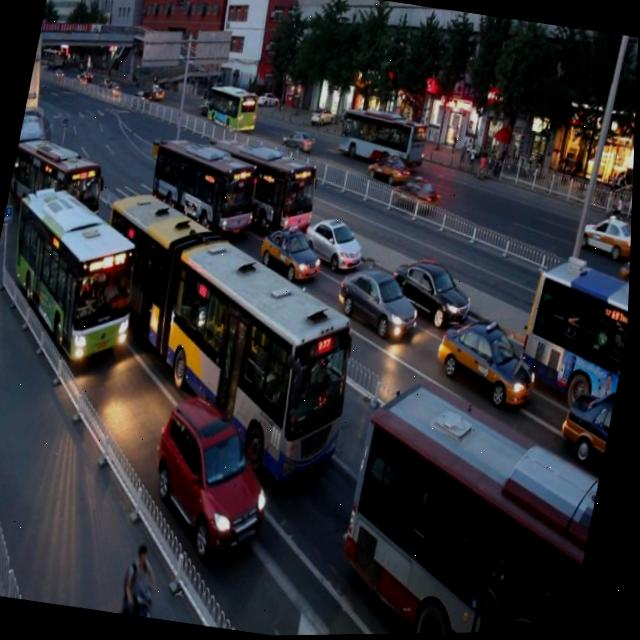car: (144, 391, 289, 562), (432, 307, 549, 414), (332, 254, 427, 343), (389, 247, 482, 328), (256, 214, 329, 284), (300, 204, 370, 274), (558, 385, 620, 463), (64, 212, 122, 275), (264, 155, 303, 195)
van: (66, 178, 385, 491), (331, 377, 617, 636), (0, 182, 155, 370), (514, 256, 632, 412), (142, 124, 268, 247), (200, 126, 328, 241), (5, 126, 111, 232)
